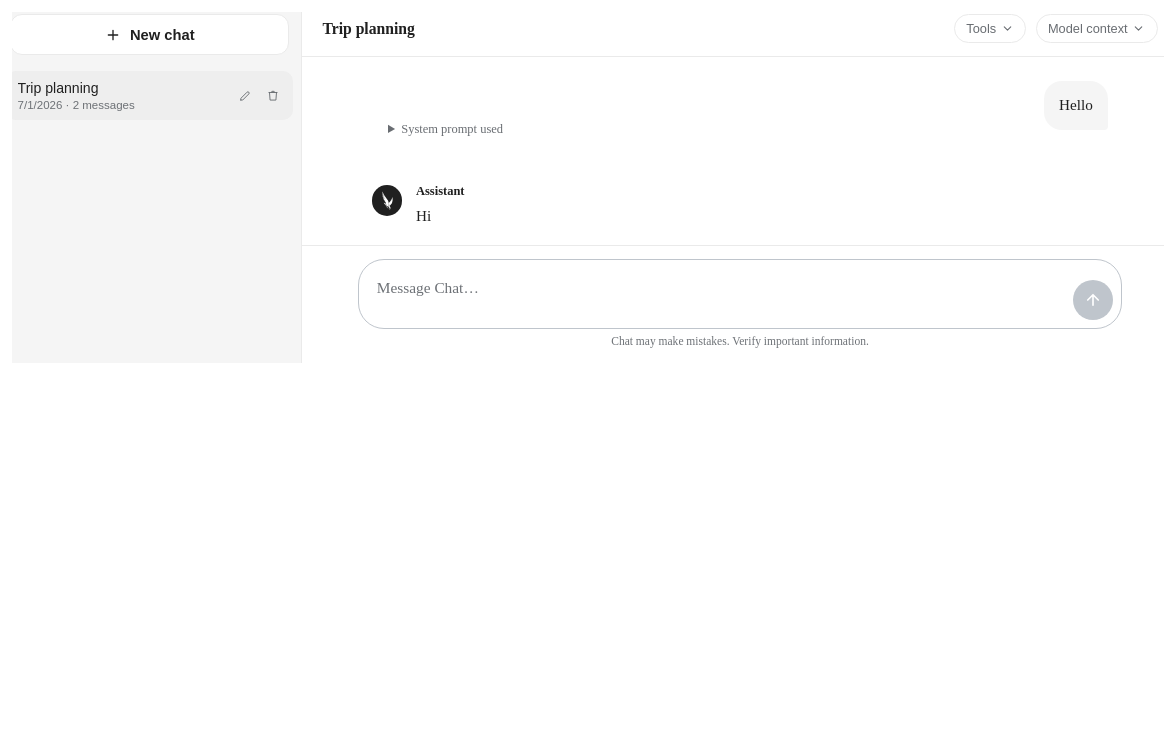
it: ChatSurface prompt context › shows inspector context separately from tools and keeps the first prompt receipt
Click the button "Model context".
click(1097, 28)  # box [1036,14,1158,43]
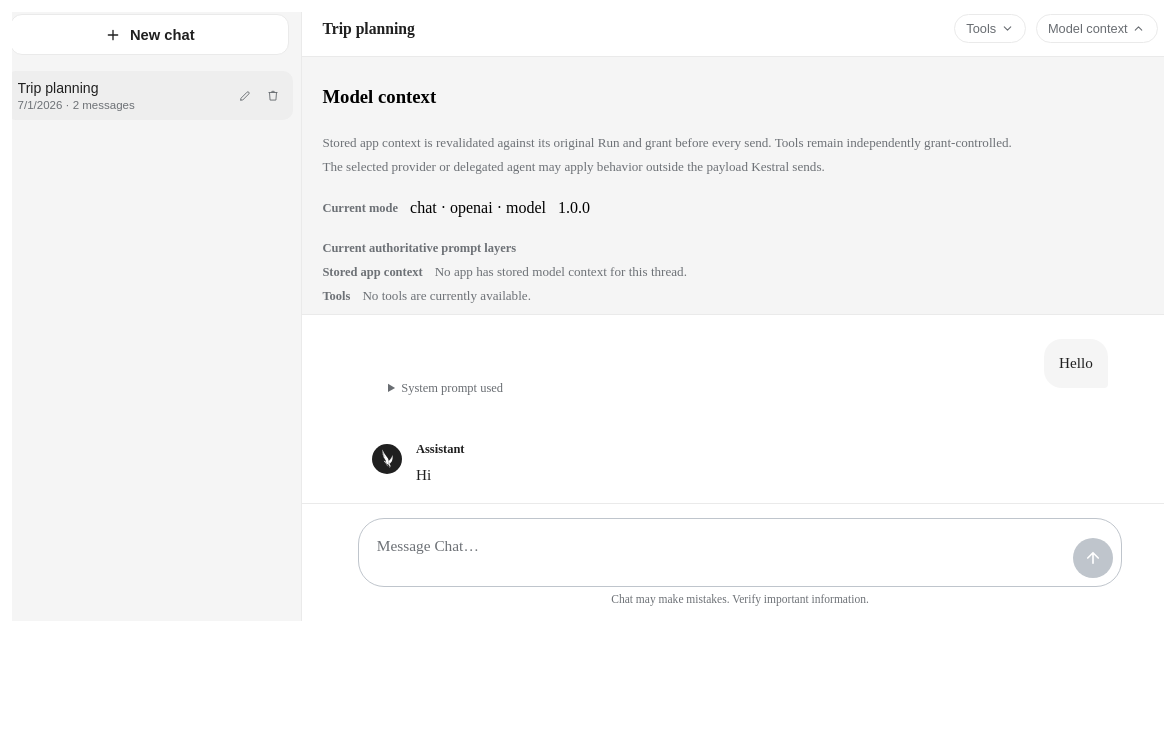
Expected: the heading "System prompt used" is shown, [401,380,503,394]
Expected: the heading "Current authoritative prompt layers" is shown, [322,241,516,256]
Expected: the text "Stored app context is revalidated against its original Run and grant" is shown, [322,135,1012,150]
